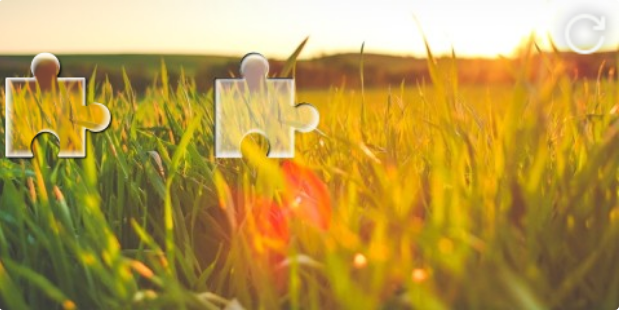target: (214, 53, 318, 158)
